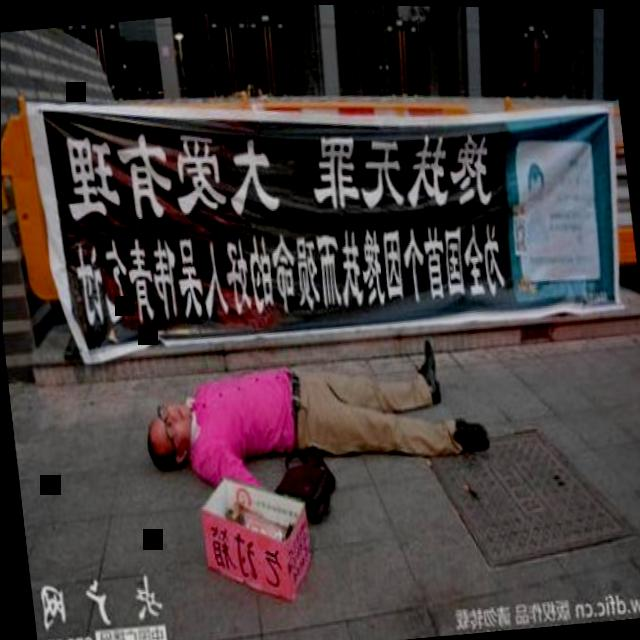Fall-Detected: (135, 317, 487, 513)
